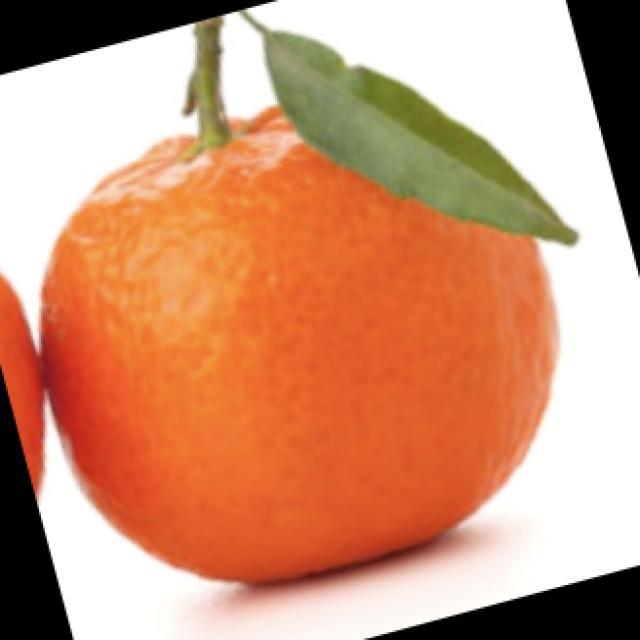matang: (42, 108, 555, 580)
